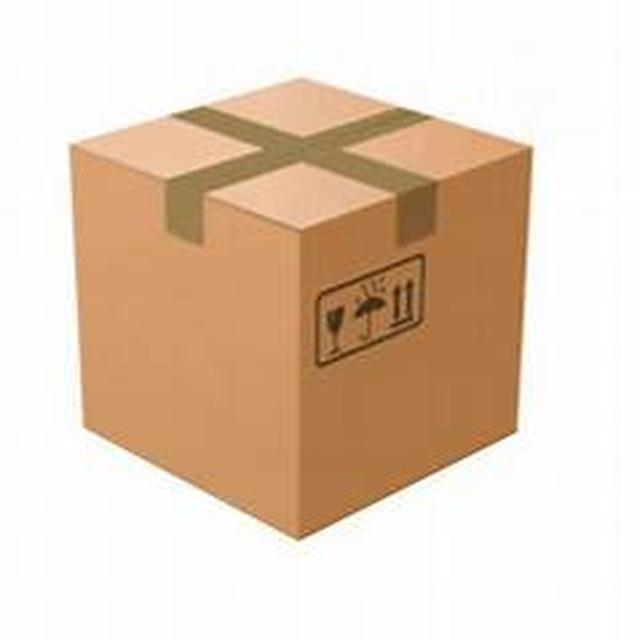box: (68, 57, 592, 520)
